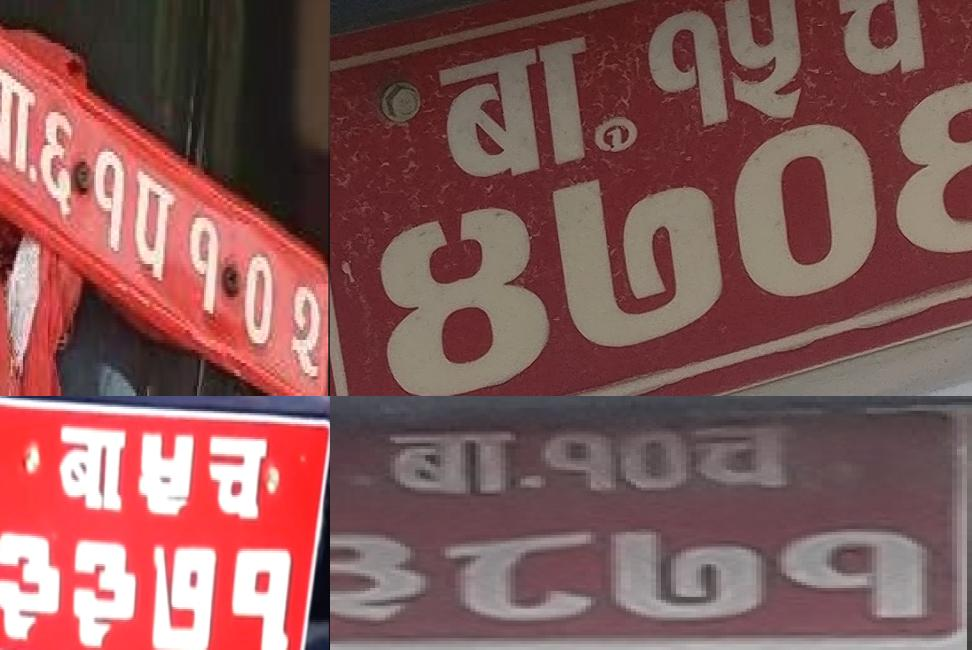0: (729, 117, 884, 299), (615, 428, 691, 490), (244, 244, 274, 356)
1: (774, 526, 926, 623), (635, 0, 733, 141), (230, 540, 301, 650), (185, 205, 223, 333), (544, 432, 616, 494), (93, 139, 131, 250)
2: (290, 271, 326, 376)
3: (330, 532, 429, 626), (72, 536, 140, 650), (0, 528, 63, 640)
4: (367, 199, 555, 396)
5: (721, 0, 810, 123), (139, 426, 200, 517)
6: (886, 72, 972, 269), (40, 99, 78, 215)
7: (549, 173, 730, 349), (604, 526, 770, 623), (150, 538, 222, 650)
8: (443, 529, 595, 623)
ba: (427, 29, 596, 177), (379, 429, 515, 496), (57, 424, 129, 514), (0, 56, 37, 188)
cha: (820, 0, 934, 80), (690, 422, 791, 490), (204, 430, 273, 521)
pa: (134, 165, 179, 290)
